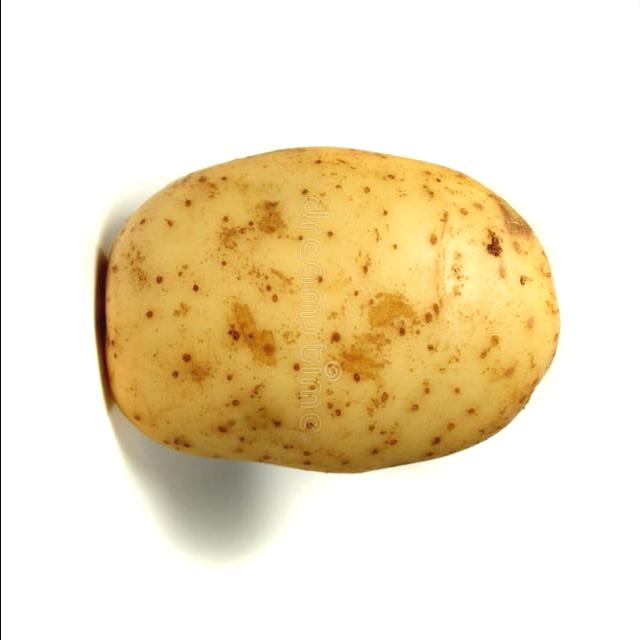potato: (102, 150, 562, 477)
